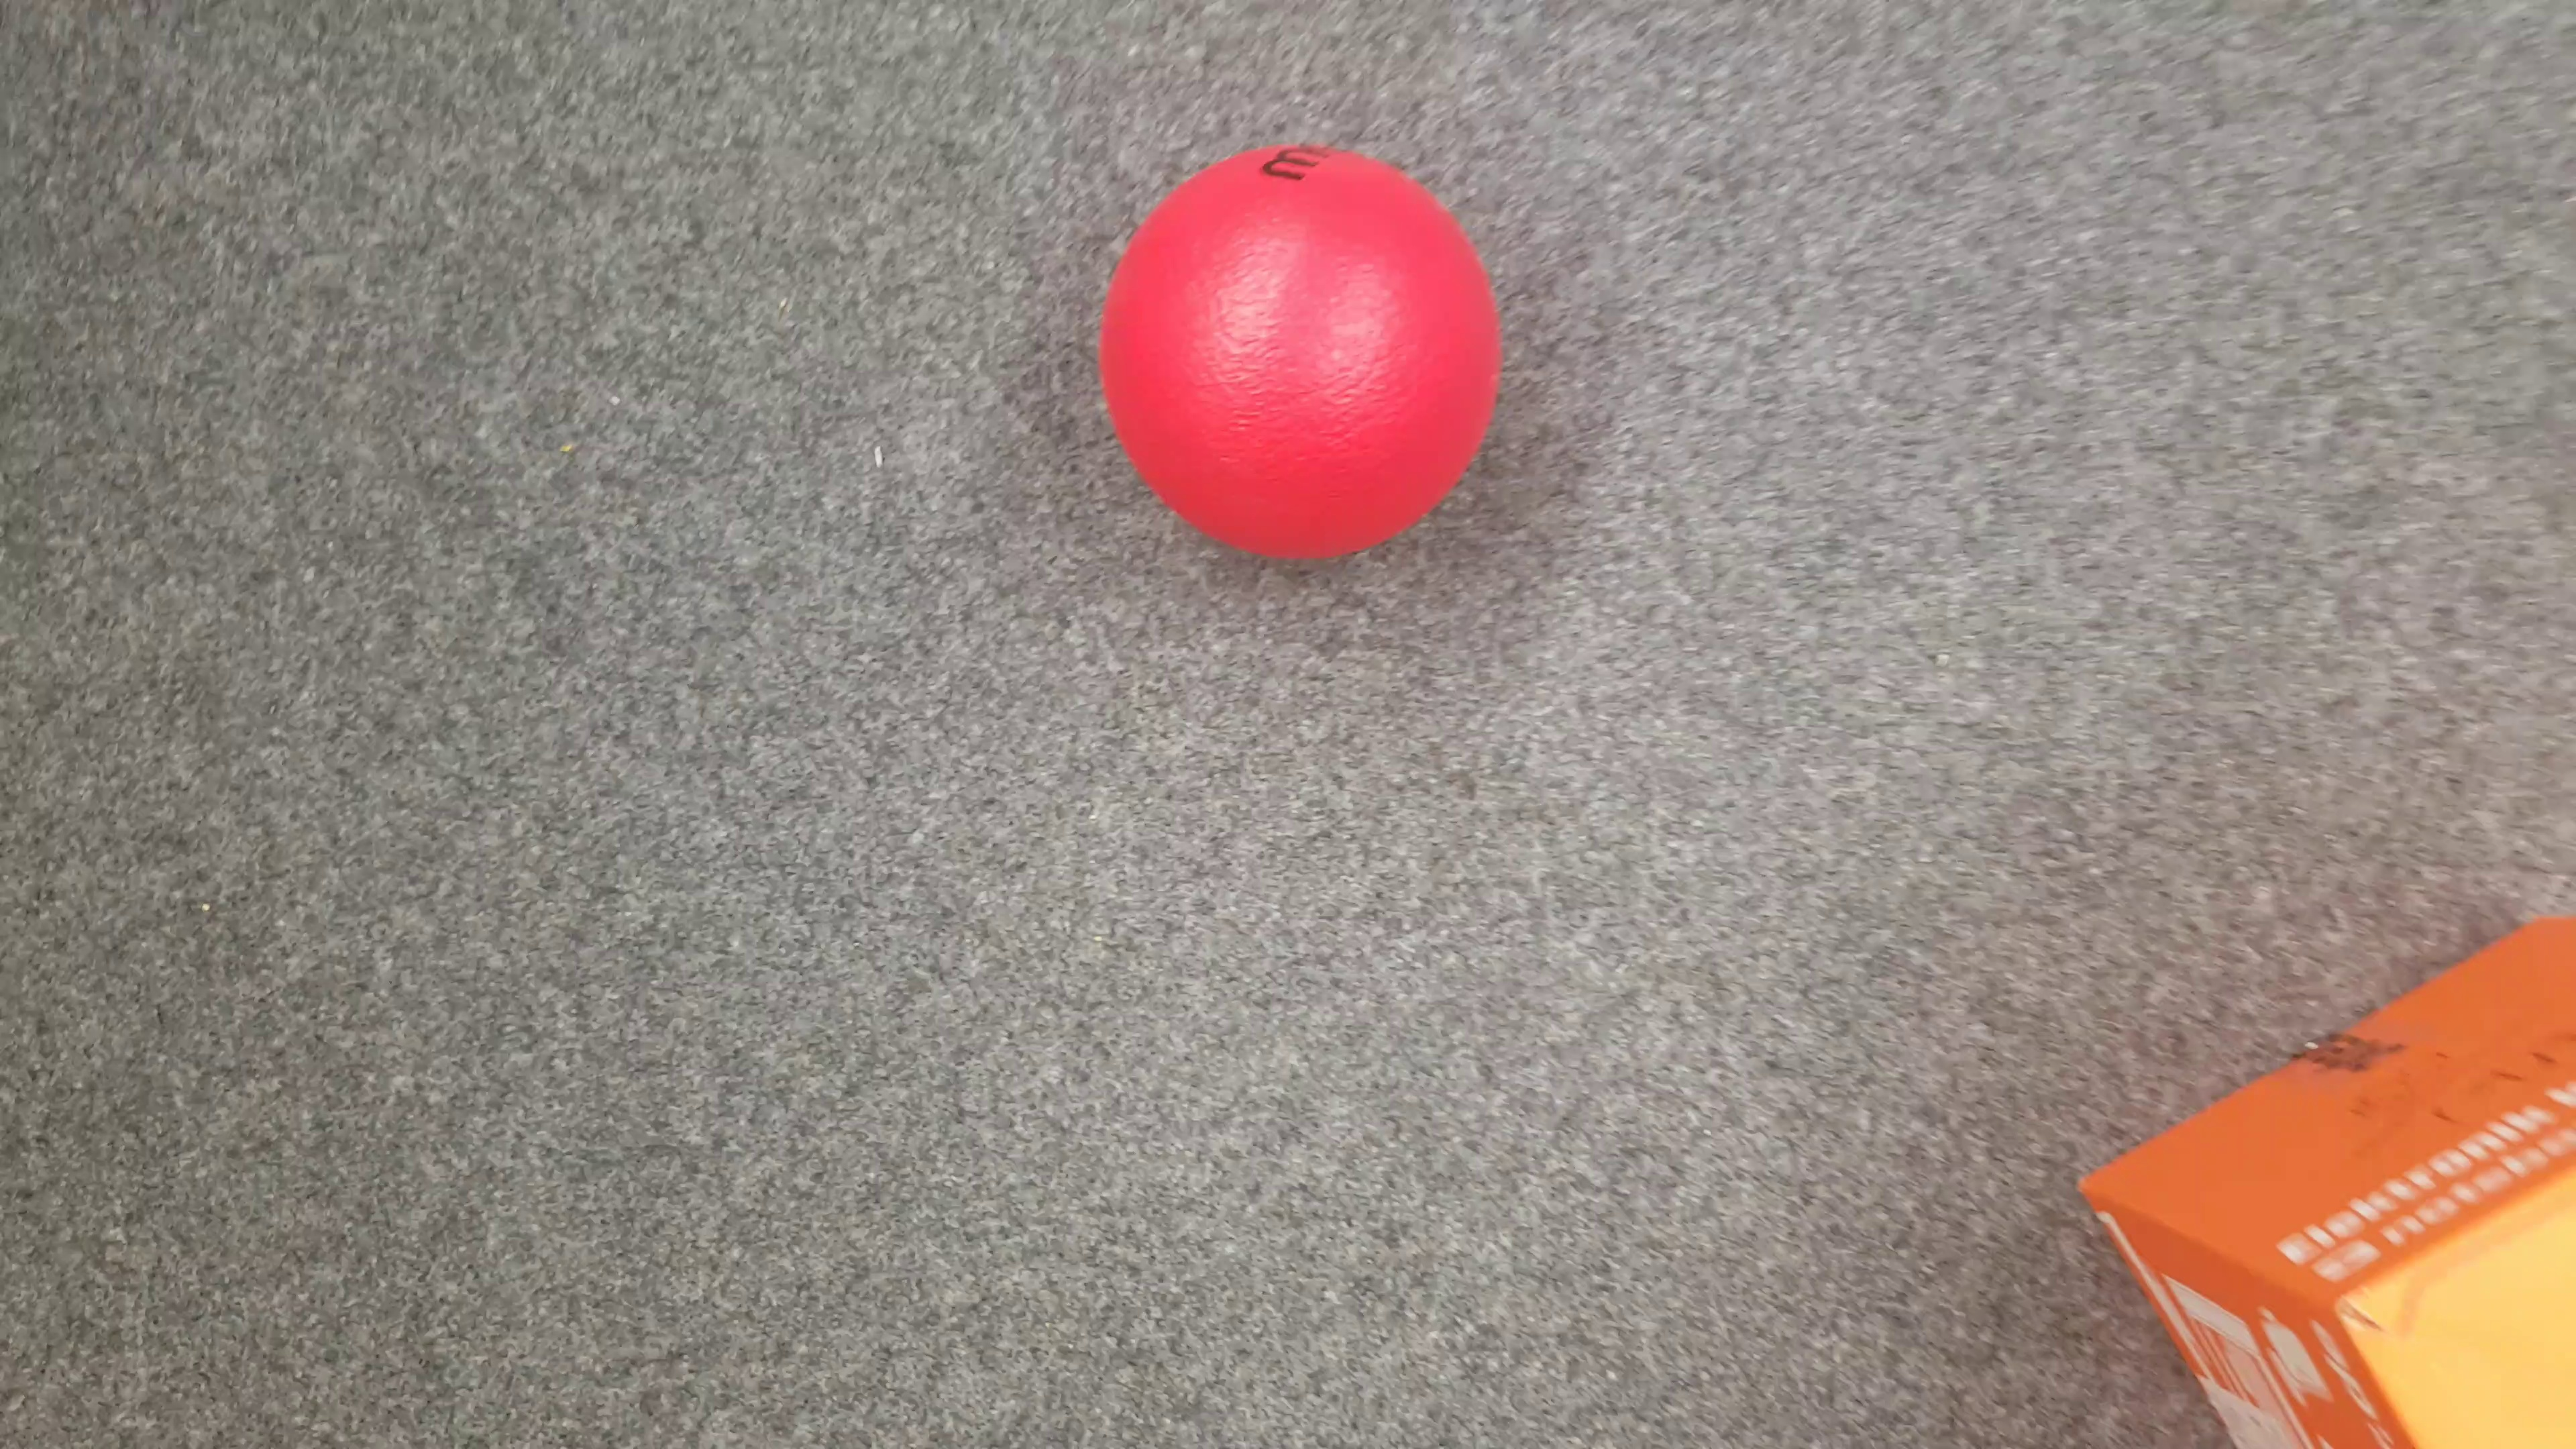kick: (1106, 140, 1504, 566)
push: (2077, 911, 2576, 1433)
